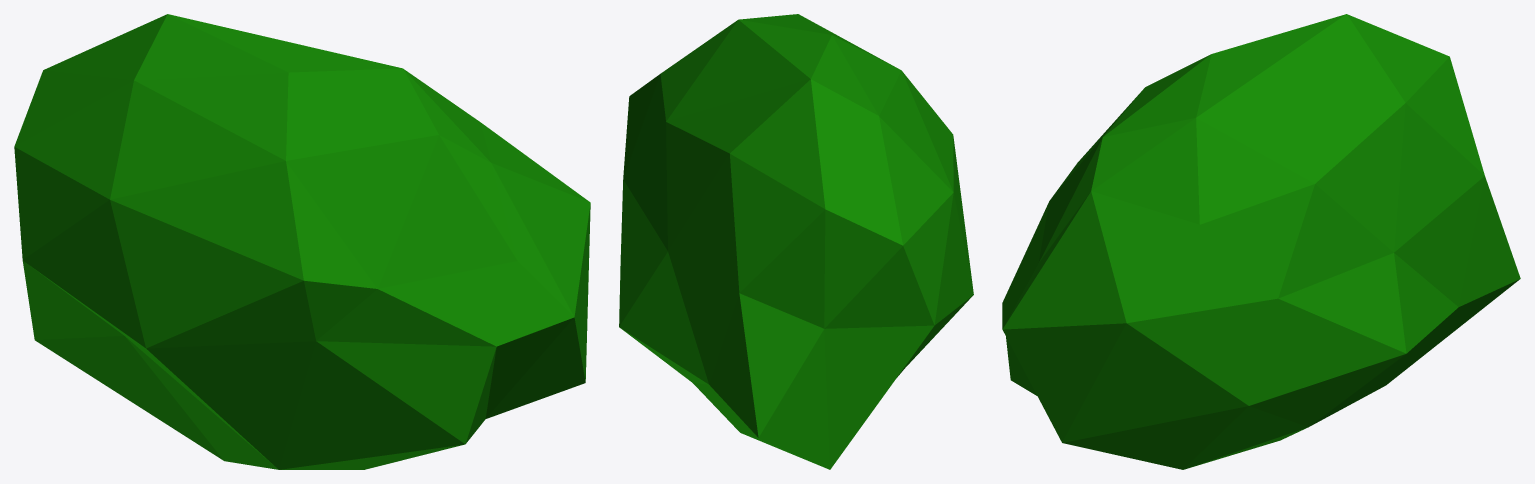
File: Ressource Herbe.fbx
3 views of the same model, side by side, from view 1: azimuth 30°, elevation 25°; view 2: azimuth 150°, elevation 25°; view 3: azimuth 270°, elevation 25° (orthographic). The views are drawn at different scales.
Parts seen in each view (by area): view 1: Icokugel.010; view 2: Icokugel.010; view 3: Icokugel.010.
Boxes of the visible parts, <box> form: Icokugel.010: <box>14,14,590,469</box>; Icokugel.010: <box>619,14,973,469</box>; Icokugel.010: <box>1002,14,1520,469</box>.
Size of what is drawn, in the model's own units: 55.87 by 50.35 by 59.89.
